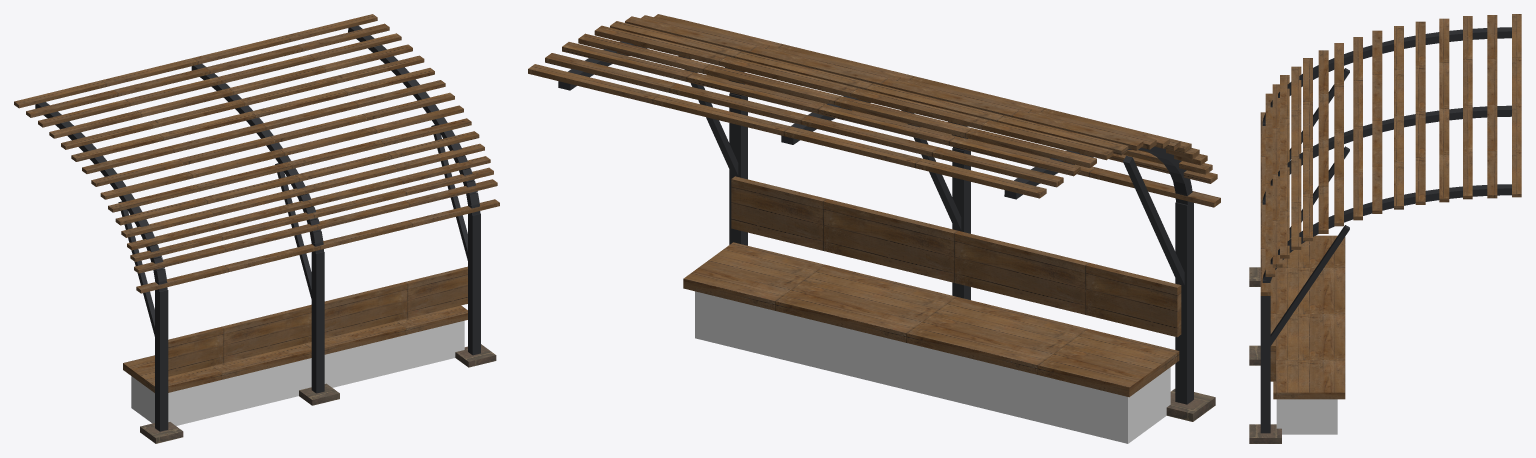
Rendered from 04 Sunshade Seats.fbx.
3 renders of one model, left to right at view 1: azimuth 30°, elevation 25°; view 2: azimuth 150°, elevation 25°; view 3: azimuth 270°, elevation 25°, orthographic. The views are drawn at different scales.
Visible parts, largest first — view 1: SiteA_ArcadeShadeSeat_canopy_slats, SiteA_ArcadeShadeSeat_steel_ribs, SiteA_ArcadeShadeSeat_bench_backrest, SiteA_ArcadeShadeSeat_bench_base, SiteA_ArcadeShadeSeat_bench_seat, SiteA_ArcadeShadeSeat_footings; view 2: SiteA_ArcadeShadeSeat_canopy_slats, SiteA_ArcadeShadeSeat_bench_seat, SiteA_ArcadeShadeSeat_bench_backrest, SiteA_ArcadeShadeSeat_bench_base, SiteA_ArcadeShadeSeat_steel_ribs, SiteA_ArcadeShadeSeat_footings; view 3: SiteA_ArcadeShadeSeat_canopy_slats, SiteA_ArcadeShadeSeat_bench_seat, SiteA_ArcadeShadeSeat_steel_ribs, SiteA_ArcadeShadeSeat_bench_base, SiteA_ArcadeShadeSeat_footings, SiteA_ArcadeShadeSeat_bench_backrest.
Part boxes in pixels (x1,y1,x2,y2): SiteA_ArcadeShadeSeat_canopy_slats: (14,14,499,293); SiteA_ArcadeShadeSeat_steel_ribs: (35,25,480,431); SiteA_ArcadeShadeSeat_bench_backrest: (168,266,467,376); SiteA_ArcadeShadeSeat_bench_base: (131,320,464,425); SiteA_ArcadeShadeSeat_bench_seat: (123,305,467,392); SiteA_ArcadeShadeSeat_footings: (140,344,496,443); SiteA_ArcadeShadeSeat_canopy_slats: (528,14,1220,207); SiteA_ArcadeShadeSeat_bench_seat: (683,242,1179,397); SiteA_ArcadeShadeSeat_bench_backrest: (731,176,1181,337); SiteA_ArcadeShadeSeat_bench_base: (695,291,1170,443); SiteA_ArcadeShadeSeat_steel_ribs: (558,41,1193,404); SiteA_ArcadeShadeSeat_footings: (1166,389,1215,421); SiteA_ArcadeShadeSeat_canopy_slats: (1260,14,1521,295); SiteA_ArcadeShadeSeat_bench_seat: (1273,235,1345,399); SiteA_ArcadeShadeSeat_steel_ribs: (1260,27,1511,433); SiteA_ArcadeShadeSeat_bench_base: (1276,399,1337,434); SiteA_ArcadeShadeSeat_footings: (1249,267,1281,443); SiteA_ArcadeShadeSeat_bench_backrest: (1270,270,1275,381).
Size of the model in its own units: 3.9 by 2.57 by 2.49.
4 materials, 2 textured.
